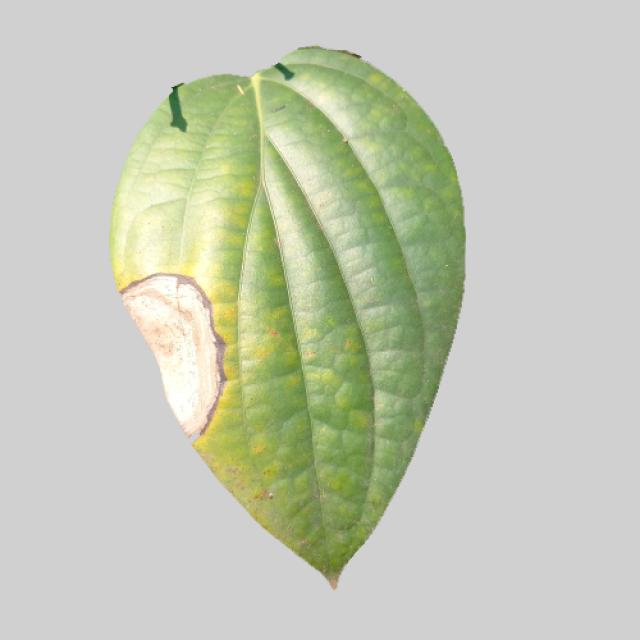leaf-blight: (80, 60, 487, 595)
